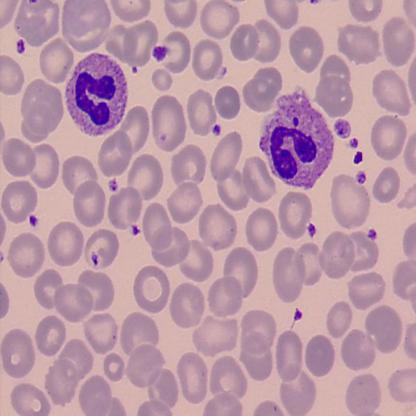Band Neutrophil: (255, 85, 337, 193), (63, 49, 130, 139)
